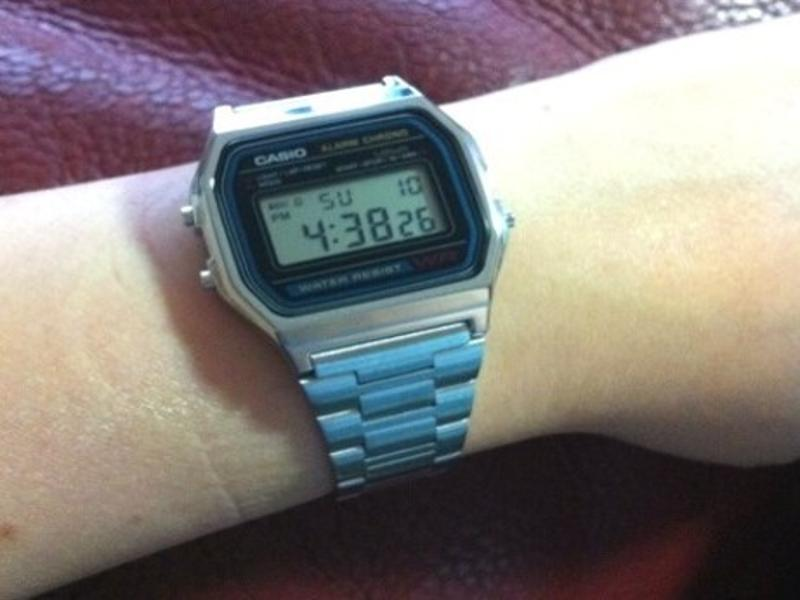watch: (189, 69, 516, 504)
